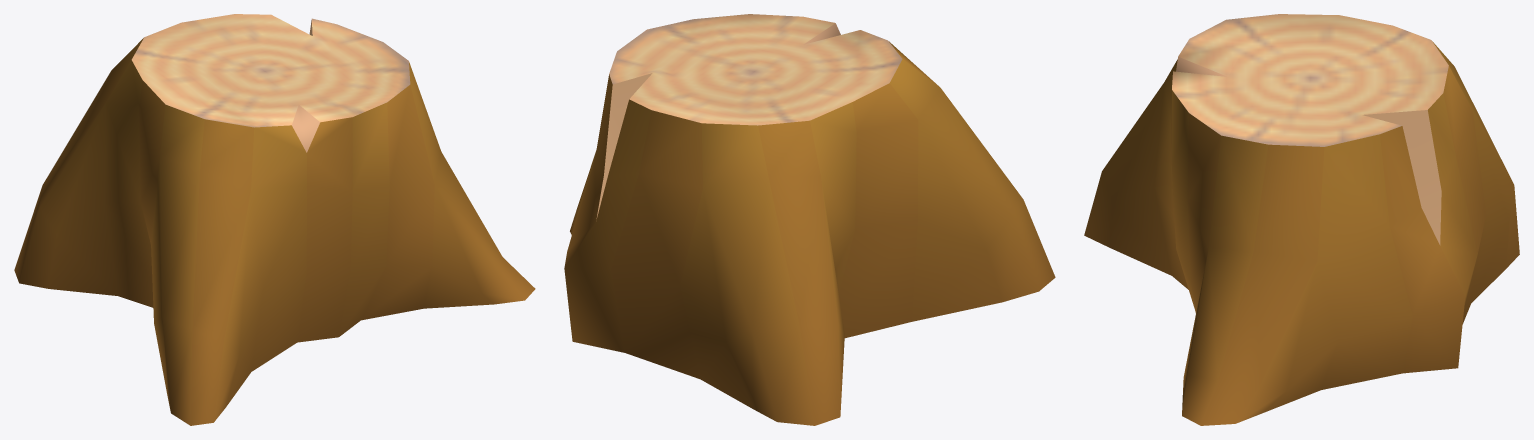
File: Log.fbx
3 views of the same model, side by side, from view 1: azimuth 30°, elevation 25°; view 2: azimuth 150°, elevation 25°; view 3: azimuth 270°, elevation 25° (orthographic). The views are drawn at different scales.
Parts seen in each view (by area): view 1: Log; view 2: Log; view 3: Log.
Boxes of the visible parts, x1,y1,x2,y2 form: Log: (14, 14, 535, 425); Log: (564, 14, 1055, 425); Log: (1084, 14, 1519, 425).
Size of the model in its own units: 132 by 75.16 by 120.
